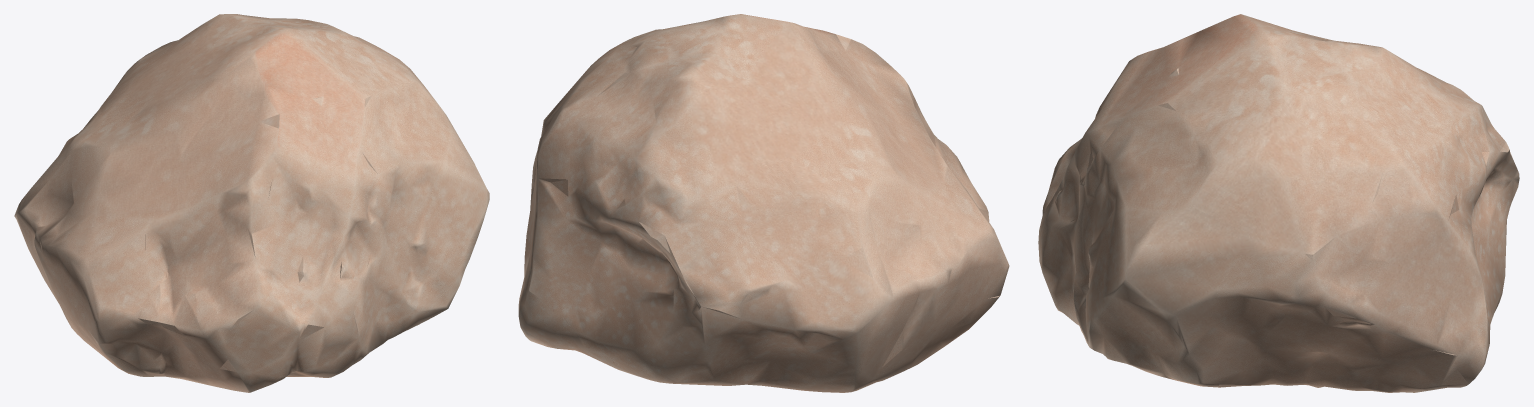
Rendered from Feldspar.fbx.
3 renders of one model, left to right at view 1: azimuth 30°, elevation 25°; view 2: azimuth 150°, elevation 25°; view 3: azimuth 270°, elevation 25°, orthographic. The views are drawn at different scales.
Parts seen in each view (by area): view 1: Mesh_0; view 2: Mesh_0; view 3: Mesh_0.
Part boxes in pixels (x1,y1,x2,y2): Mesh_0: (14,14,489,392); Mesh_0: (518,14,1009,392); Mesh_0: (1038,14,1519,392).
Size of the model in its own units: 190 by 133 by 182.
Materials: 1 (1 with a texture image).
